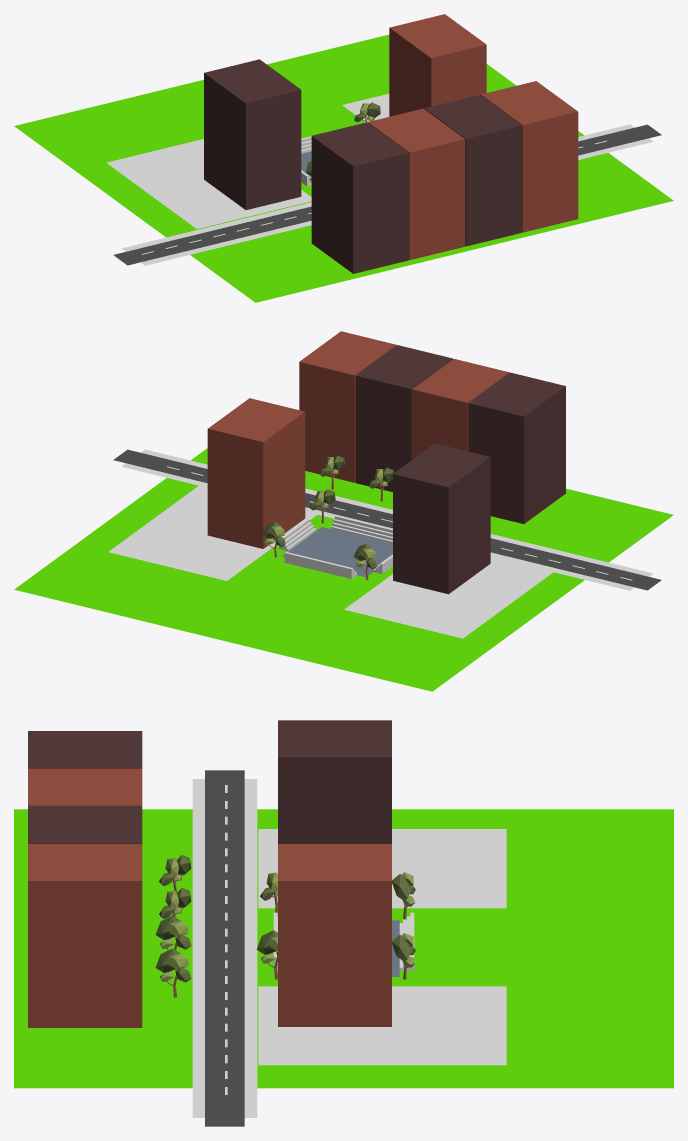
File: my-city.glb
3 renders of one model, top to bottom at view 1: azimuth 30°, elevation 25°; view 2: azimuth 150°, elevation 25°; view 3: azimuth 270°, elevation 25°, orthographic. The views are drawn at different scales.
Parts seen in each view (by area): view 1: Plane, Cube.009, Cube.005, Cube.006, Cube.007, Cube.008, Cube.004, Plane.025, Plane.001, Plane.024, Plane.023, Plane.026; view 2: Plane, Cube.005, Cube.004, Cube.009, Cube.006, Plane.025, Cube.007, Plane.026, Cube.008, Plane.001, Plane.022, Plane.024 (+4 smaller); view 3: Plane, Cube.006, Cube.004, Plane.026, Cube.005, Plane.001, Plane.025, Plane.023, Cube.008, Plane.024, Cube.007, Cube.009 (+6 smaller).
Boxes of the visible parts, <box> form: Plane: <box>14,34,673,302</box>; Cube.009: <box>311,122,408,273</box>; Cube.005: <box>204,59,301,209</box>; Cube.006: <box>481,81,578,232</box>; Cube.007: <box>424,95,521,246</box>; Cube.008: <box>368,108,465,259</box>; Cube.004: <box>389,14,486,116</box>; Plane.025: <box>106,139,311,228</box>; Plane.001: <box>113,124,661,265</box>; Plane.024: <box>140,138,653,265</box>; Plane.023: <box>121,124,633,251</box>; Plane.026: <box>342,93,389,122</box>; Plane: <box>14,448,673,691</box>; Cube.005: <box>393,443,490,594</box>; Cube.004: <box>207,398,305,548</box>; Cube.009: <box>468,372,565,523</box>; Cube.006: <box>299,331,396,482</box>; Plane.025: <box>344,557,553,638</box>; Cube.007: <box>355,345,452,491</box>; Plane.026: <box>108,485,317,580</box>; Cube.008: <box>412,359,509,459</box>; Plane.001: <box>113,449,661,590</box>; Plane.022: <box>281,527,392,577</box>; Plane.024: <box>141,449,653,576</box>; Plane: <box>14,809,673,1088</box>; Cube.006: <box>28,844,142,1027</box>; Cube.004: <box>278,844,391,1026</box>; Plane.026: <box>258,986,506,1065</box>; Cube.005: <box>278,720,391,843</box>; Plane.001: <box>205,770,244,1126</box>; Plane.025: <box>258,829,506,908</box>; Plane.023: <box>244,779,257,1117</box>; Cube.008: <box>28,768,142,806</box>; Plane.024: <box>192,779,204,1117</box>; Cube.007: <box>28,806,142,843</box>; Cube.009: <box>28,731,142,768</box>.
Size of the model in its own units: 42.64 by 8.21 by 33.38.
7 materials, 1 textured.
